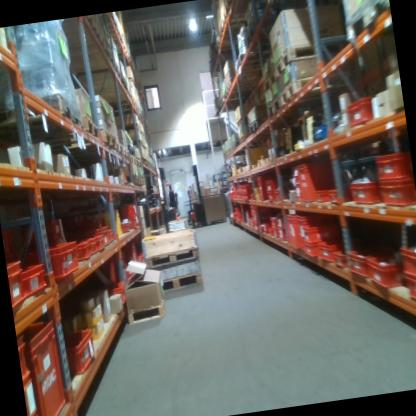pallet: (0, 93, 86, 149), (271, 38, 351, 76), (278, 70, 354, 107), (340, 0, 393, 40), (52, 110, 102, 149), (143, 242, 203, 272), (63, 14, 103, 54), (85, 127, 121, 157), (160, 270, 204, 294), (224, 74, 255, 97), (265, 95, 284, 120), (261, 70, 278, 95), (114, 144, 132, 164), (0, 28, 11, 60), (248, 118, 268, 135), (123, 175, 140, 188), (111, 64, 122, 82), (236, 132, 251, 145), (224, 0, 240, 12), (124, 153, 137, 166), (236, 116, 250, 127), (139, 175, 146, 188), (134, 157, 142, 168)
pallet_truck: (179, 159, 208, 229), (157, 164, 182, 221), (184, 184, 195, 223)
small_load_carrier: (24, 318, 71, 416), (56, 325, 101, 385), (26, 238, 81, 284), (296, 155, 337, 207), (364, 243, 409, 289), (18, 254, 53, 301), (345, 241, 386, 281), (6, 256, 33, 311), (373, 148, 412, 182), (15, 322, 33, 392), (295, 211, 322, 256), (342, 93, 376, 128), (379, 178, 416, 208), (300, 218, 340, 245), (395, 241, 416, 285), (353, 180, 384, 208), (317, 237, 342, 265), (285, 210, 302, 249), (110, 273, 128, 306), (124, 242, 141, 275), (403, 273, 416, 311), (23, 378, 36, 416), (113, 201, 139, 218), (256, 172, 270, 200), (84, 235, 99, 258), (332, 249, 348, 270), (328, 187, 344, 208), (76, 240, 92, 261), (301, 239, 319, 257), (92, 232, 106, 253), (97, 227, 111, 248), (313, 186, 330, 203), (264, 177, 279, 193), (104, 226, 117, 242), (276, 227, 288, 244), (116, 224, 132, 235), (274, 188, 288, 200), (294, 186, 305, 201), (129, 216, 141, 229), (289, 165, 300, 178), (275, 215, 286, 228), (267, 215, 278, 227), (270, 228, 280, 241), (293, 177, 302, 188), (266, 192, 274, 204)
